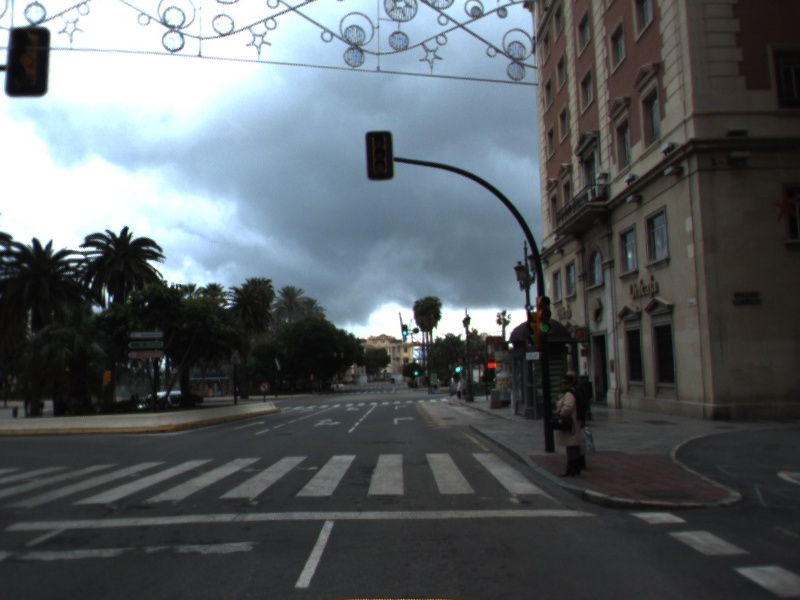RIGHT: (391, 414, 418, 427)
STRAIGHT: (231, 418, 267, 432)
STRAIGHT_RIGHT: (311, 416, 344, 429)
